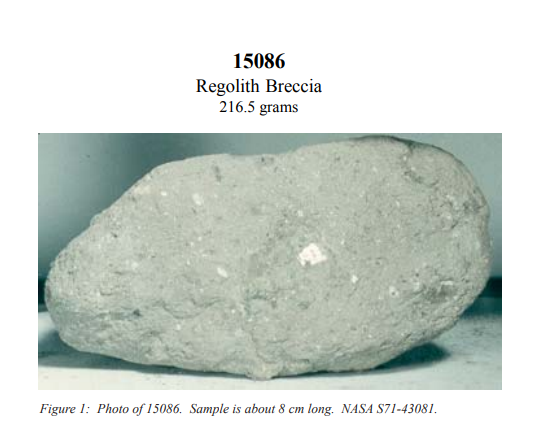Breccia: (37, 150, 493, 373), (82, 162, 451, 354), (169, 186, 455, 350)
